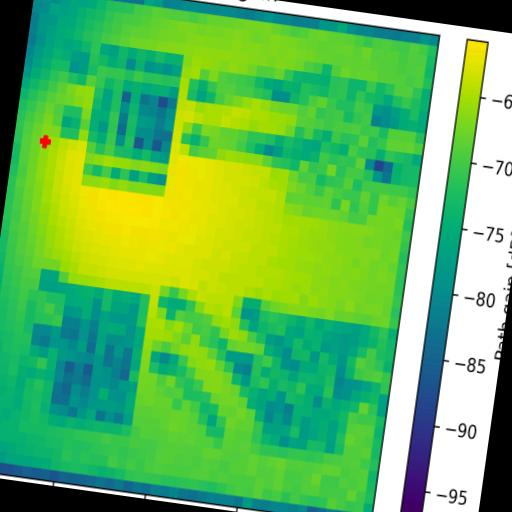Concrete: (286, 64, 385, 225)
Glass: (81, 43, 184, 196)
Metal: (242, 312, 360, 455)
Wood: (42, 282, 152, 425)
